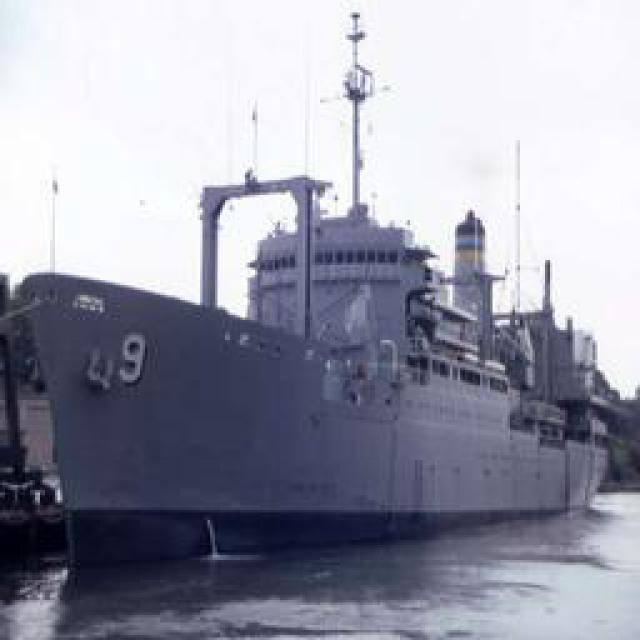Ship: (9, 187, 622, 547)
